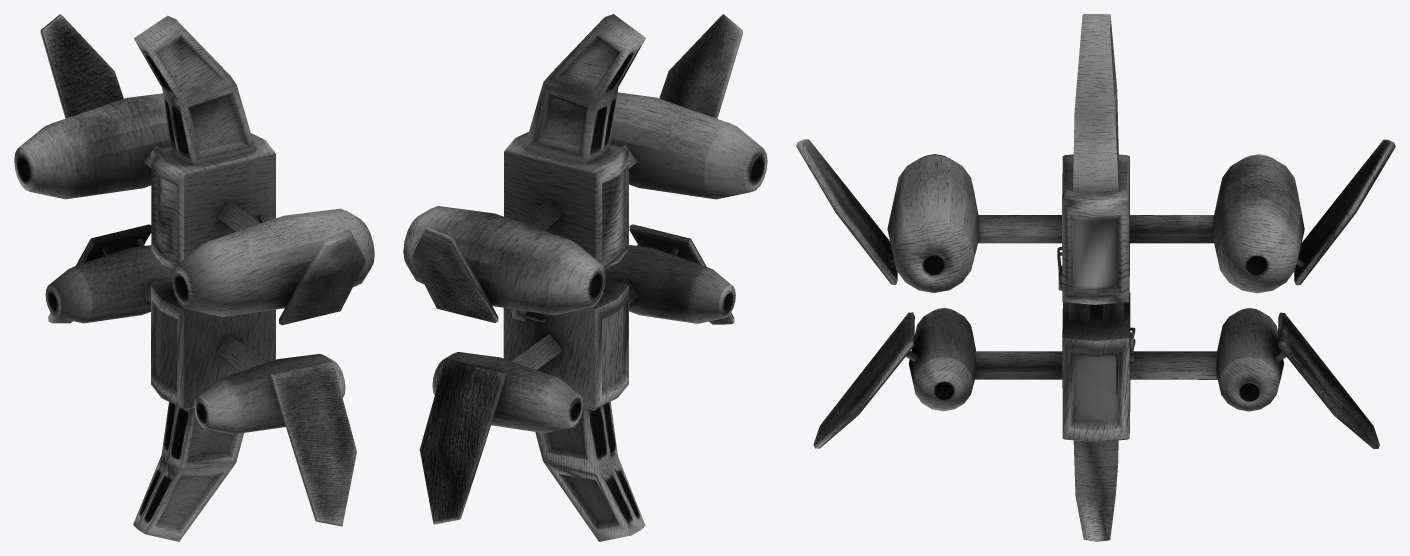
The model's file is SpaceShipSpecular.obj.
The picture shows the model from 3 angles, left to right: view 1: azimuth 30°, elevation 25°; view 2: azimuth 150°, elevation 25°; view 3: azimuth 270°, elevation 25°; orthographic projection.
Parts seen in each view (by area): view 1: objdefault; view 2: objdefault; view 3: objdefault.
Part boxes in pixels (bbox=[...]): objdefault: bbox=[14, 14, 374, 541]; objdefault: bbox=[403, 14, 767, 541]; objdefault: bbox=[796, 14, 1395, 541].
Bounding box in the file's own units: 6.4 × 16.99 × 17.53.
Materials: 1 (1 with a texture image).
